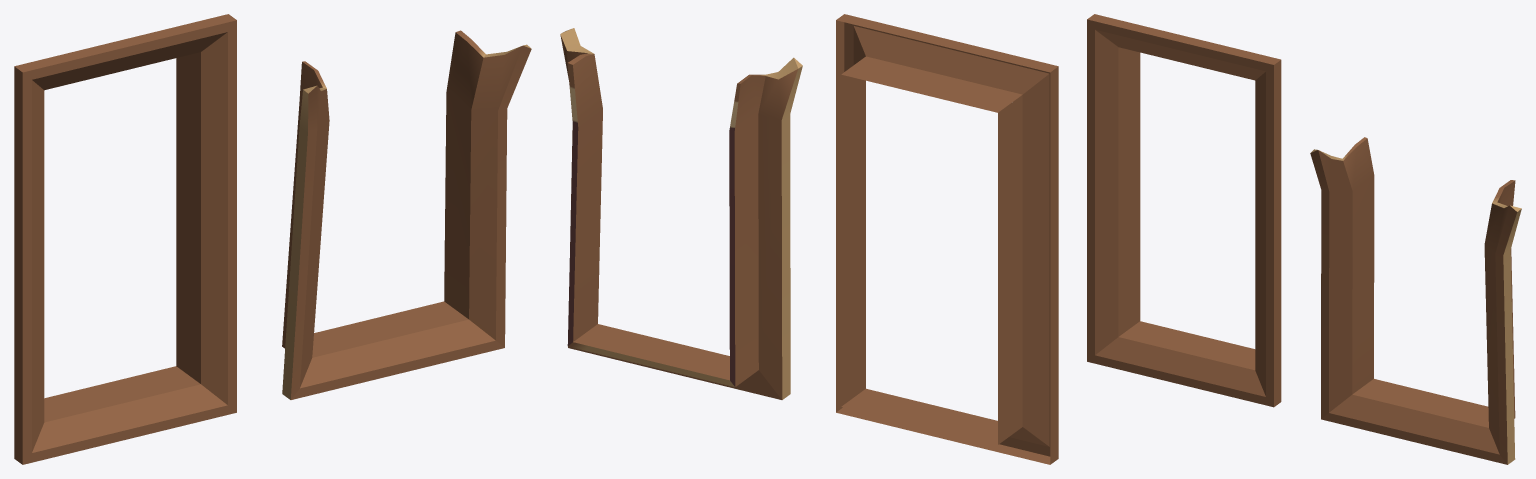
Rendered from DBK_WinDouble_Trim_C_90.fbx.
3 views of the same model, side by side, from view 1: azimuth 30°, elevation 25°; view 2: azimuth 150°, elevation 25°; view 3: azimuth 330°, elevation 25° (orthographic). The views are drawn at different scales.
Parts seen in each view (by area): view 1: DBK_WinDouble_Trim_C_90; view 2: DBK_WinDouble_Trim_C_90; view 3: DBK_WinDouble_Trim_C_90.
Boxes of the visible parts, box(x1,y1,x2,y2) form: DBK_WinDouble_Trim_C_90: box(14, 14, 531, 464); DBK_WinDouble_Trim_C_90: box(560, 14, 1058, 464); DBK_WinDouble_Trim_C_90: box(1087, 14, 1521, 464).
Bounding box in the file's own units: 187 × 140 × 30.4.
